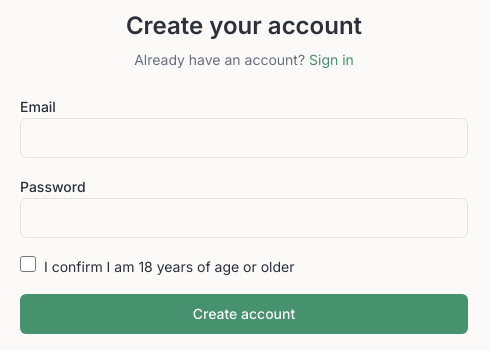
Test case: SignUpPage › shows success screen after successful sign-up
Type "user@example.com" into the field labelled "Email".
click(244, 138); type("user@example.com")  # box [20,118,468,158]
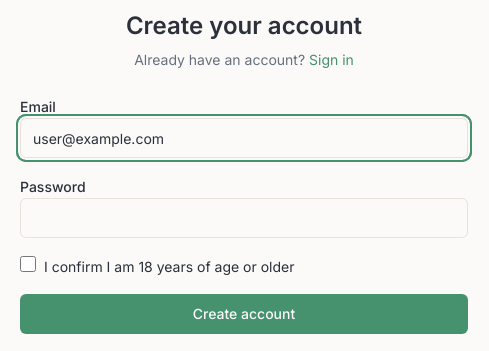
Type "securepassword" into the password field labelled "Password".
click(244, 218); type("securepassword")  # box [20,198,468,238]
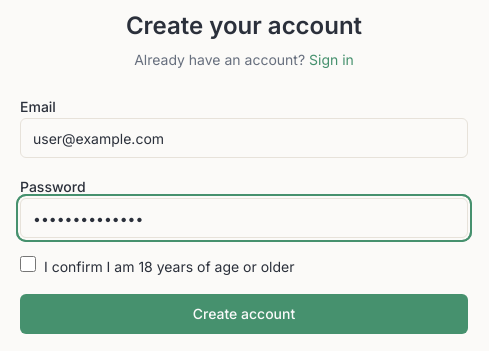
Click the checkbox labelled "I confirm I am 18 years of age or older".
click(28, 264)  # box [20,256,36,272]
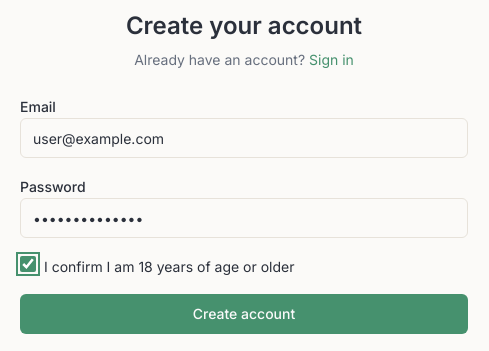
Click the button "Create account".
click(244, 314)  # box [20,294,468,334]
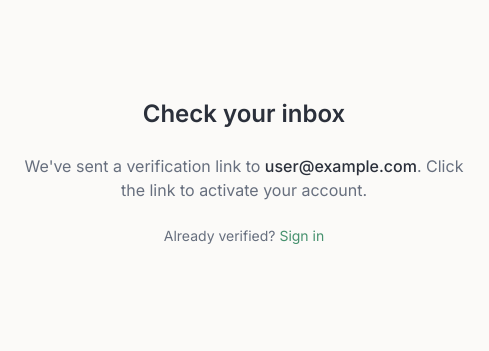
Result: the heading "Check your inbox" is shown at [143,99,345,128]
Result: the text "user@example.com" is shown at [265,156,417,176]
